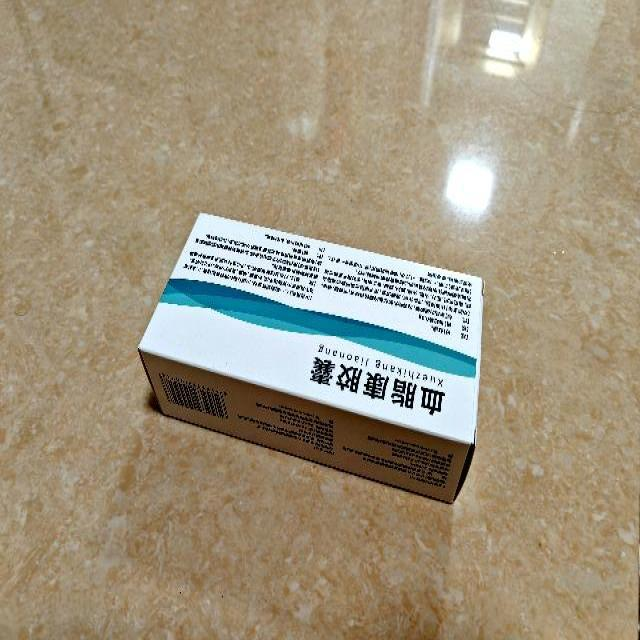box: (140, 210, 484, 502)
